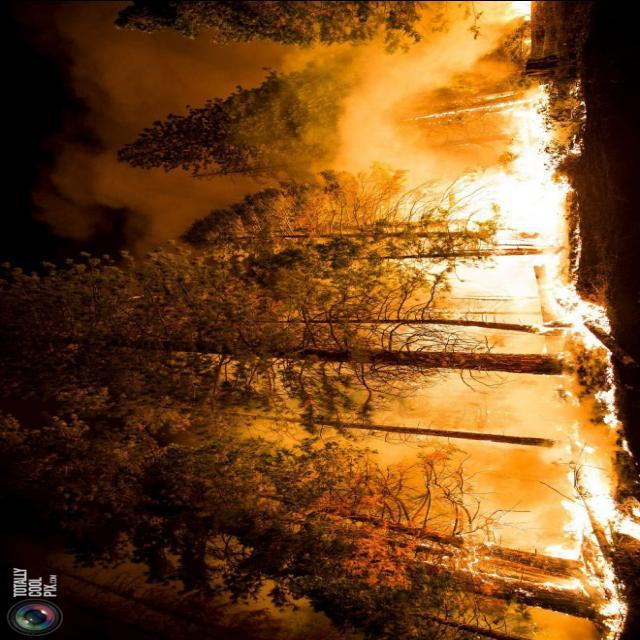Fire: (341, 77, 587, 313), (532, 324, 640, 612)
